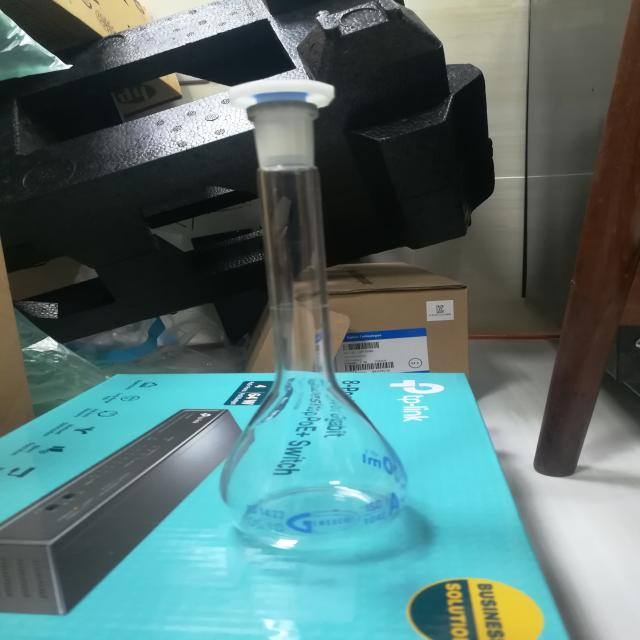Volumetric_Flask: (188, 49, 438, 552)
